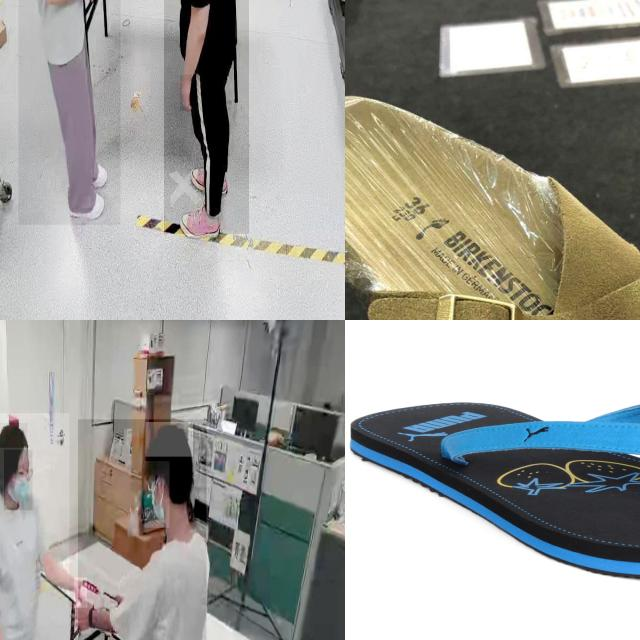Sandals: (345, 52, 640, 320), (347, 396, 640, 582)
face_mask: (144, 461, 170, 528), (4, 450, 32, 510)
hand_noglove: (72, 599, 94, 634), (180, 75, 193, 112), (74, 578, 88, 608)
head_nohelmet: (146, 422, 193, 458), (0, 423, 28, 449)
person: (78, 419, 207, 640), (18, 0, 121, 226), (164, 0, 249, 235), (0, 413, 70, 640)
shoes: (177, 205, 223, 242), (188, 164, 232, 199), (66, 186, 108, 220)
